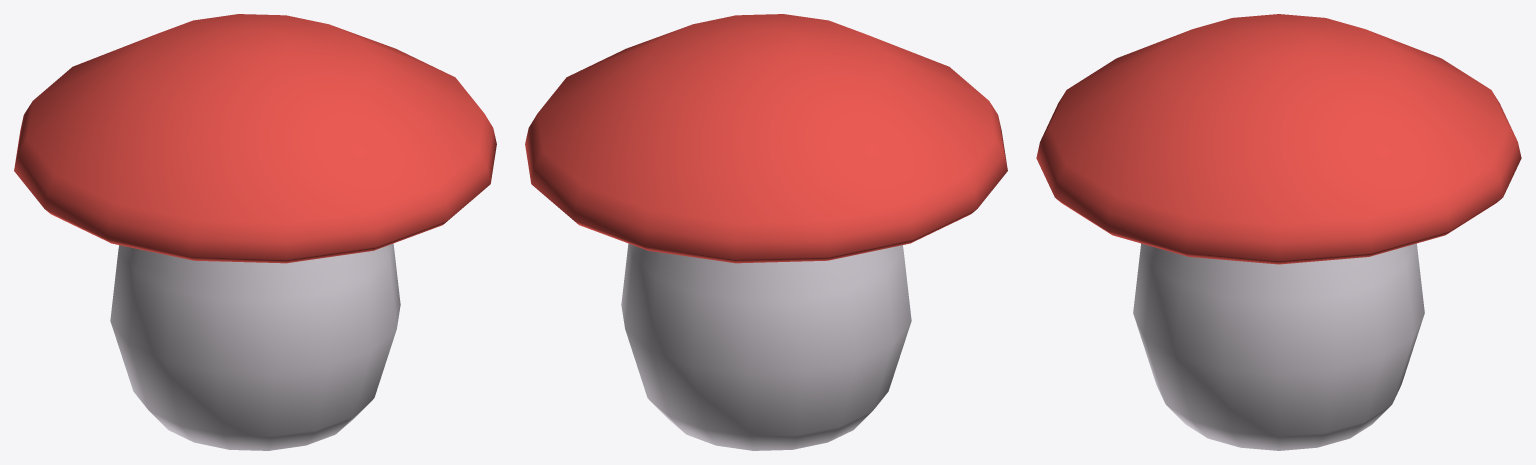
The model's file is mushroom.glb.
3 views of the same model, side by side, from view 1: azimuth 30°, elevation 25°; view 2: azimuth 150°, elevation 25°; view 3: azimuth 270°, elevation 25° (orthographic).
Visible parts, largest first — view 1: Cylinder; view 2: Cylinder; view 3: Cylinder.
Part boxes in pixels (bbox=[...]): Cylinder: bbox=[14, 14, 496, 450]; Cylinder: bbox=[525, 14, 1007, 450]; Cylinder: bbox=[1036, 14, 1521, 450].
Bounding box in the file's own units: 3.33 × 2.74 × 3.33.
